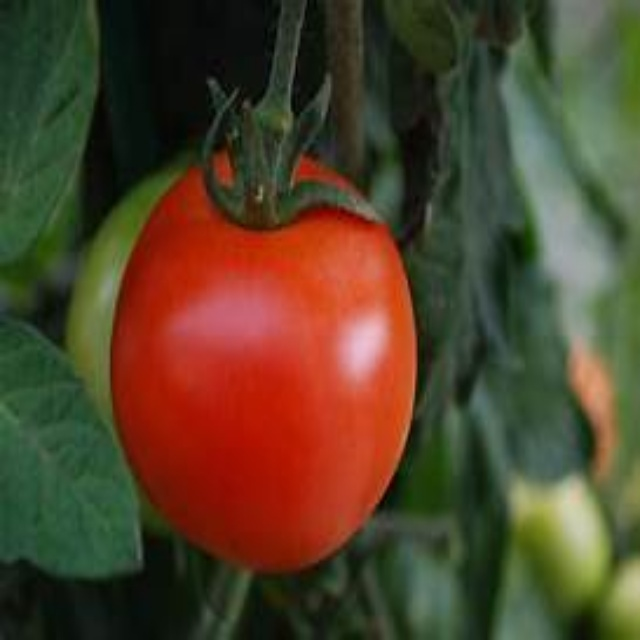tomato: (77, 144, 415, 570)
